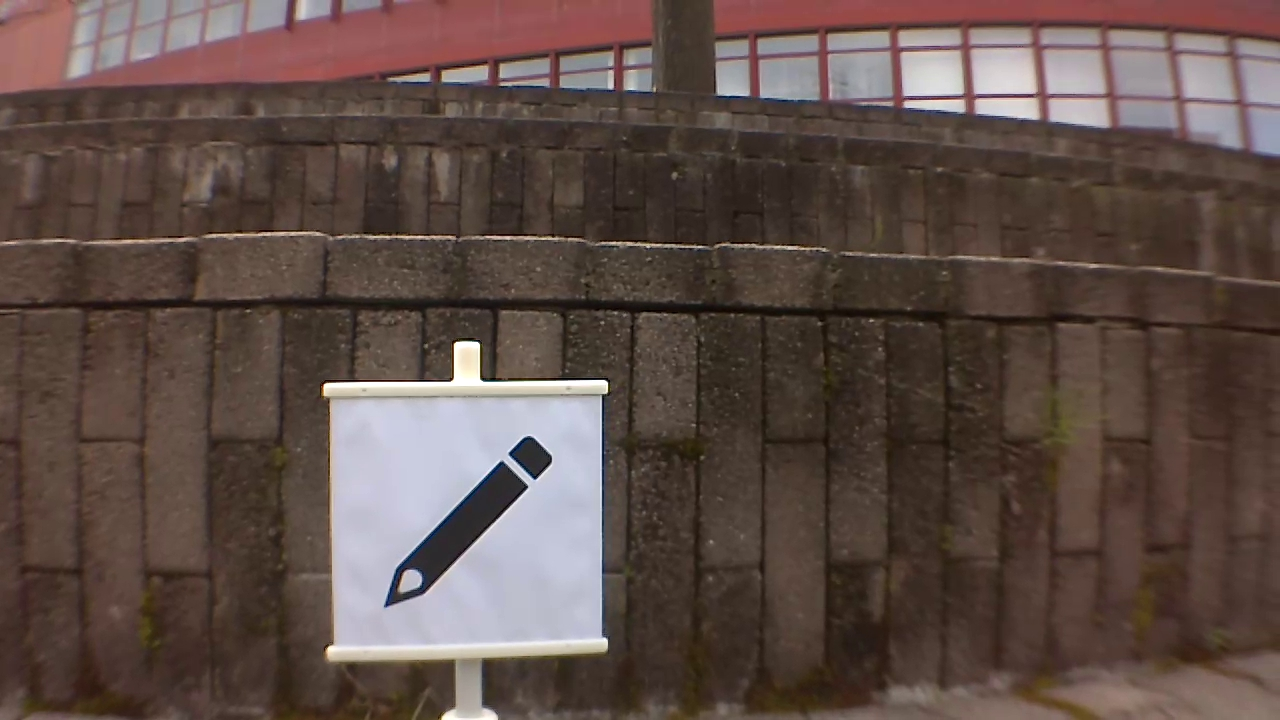pencil: (379, 433, 559, 609)
